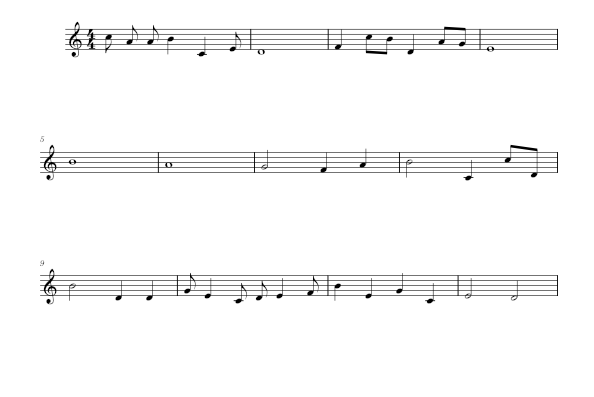Treble Clef: (64, 17, 84, 61), (41, 267, 61, 308), (41, 143, 61, 183)
